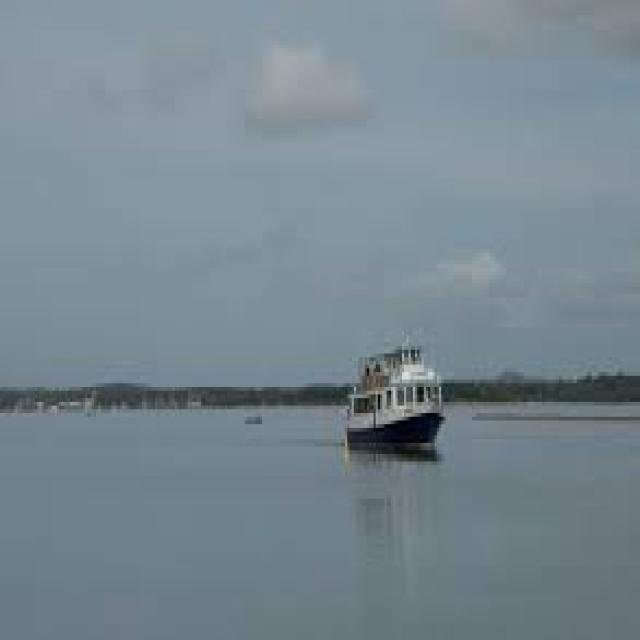houseboat: (333, 323, 449, 451)
